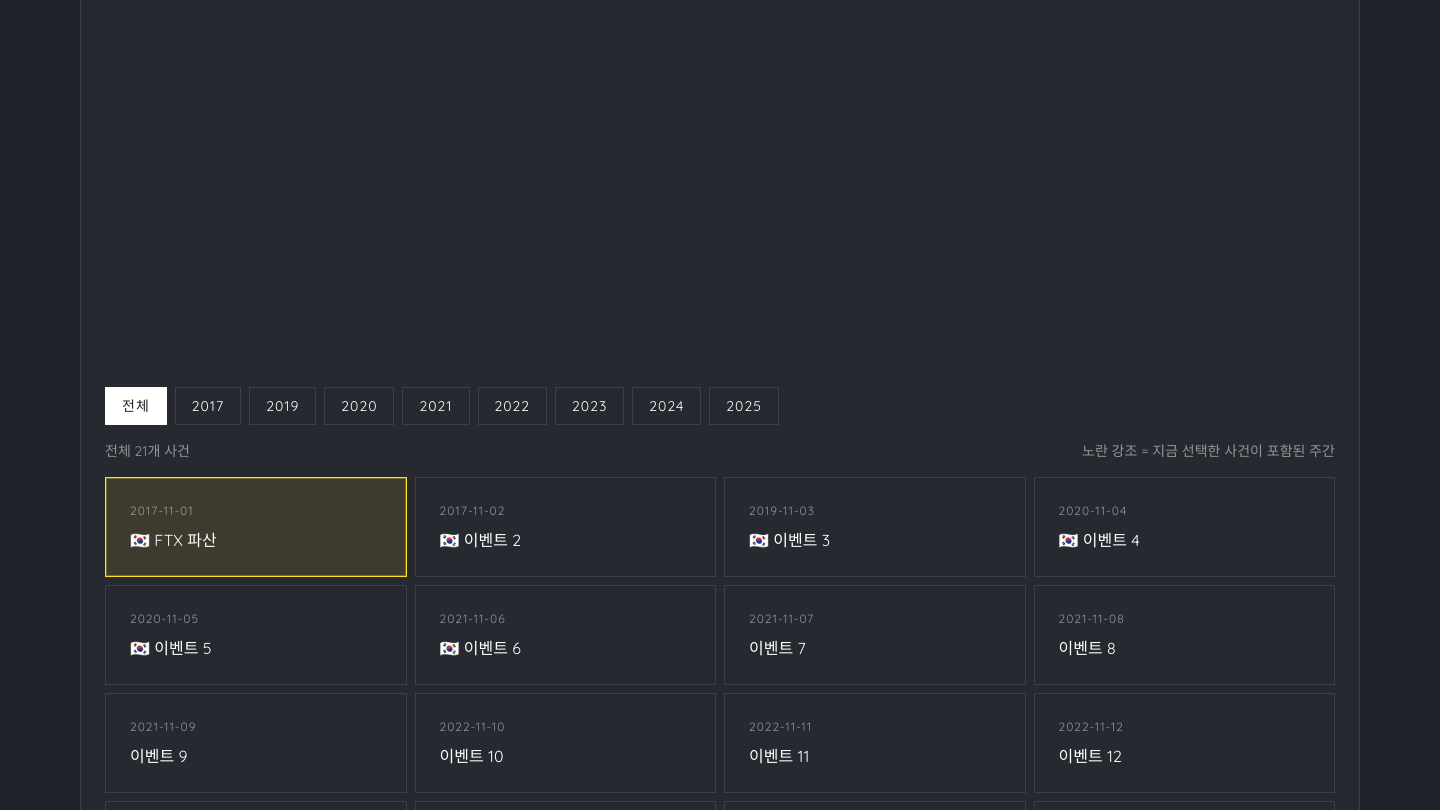
Test: App › filters events by year and restores the full list
The width and height of the screenshot is (1440, 810).
(page scrolled)
Click the button "2024": (667, 406) [632,387,701,425]
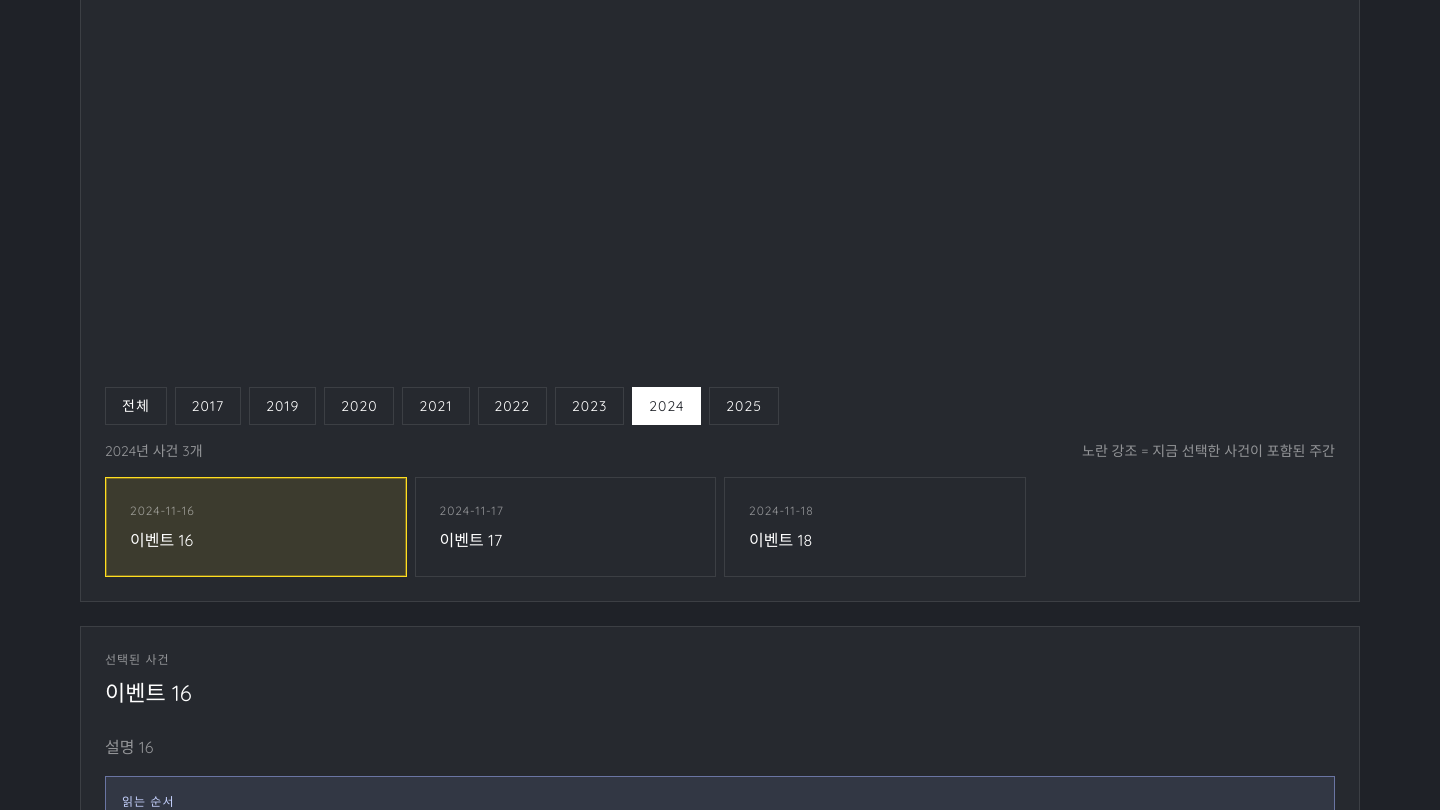
Result: the text "2024년 사건 3개" is shown at [105,441,202,461]
Result: the number of links named "보기" is 3 at [105,477,406,577]; [414,477,716,577]; [724,477,1026,577]
Click the button "전체": (136, 406) [105,387,167,425]
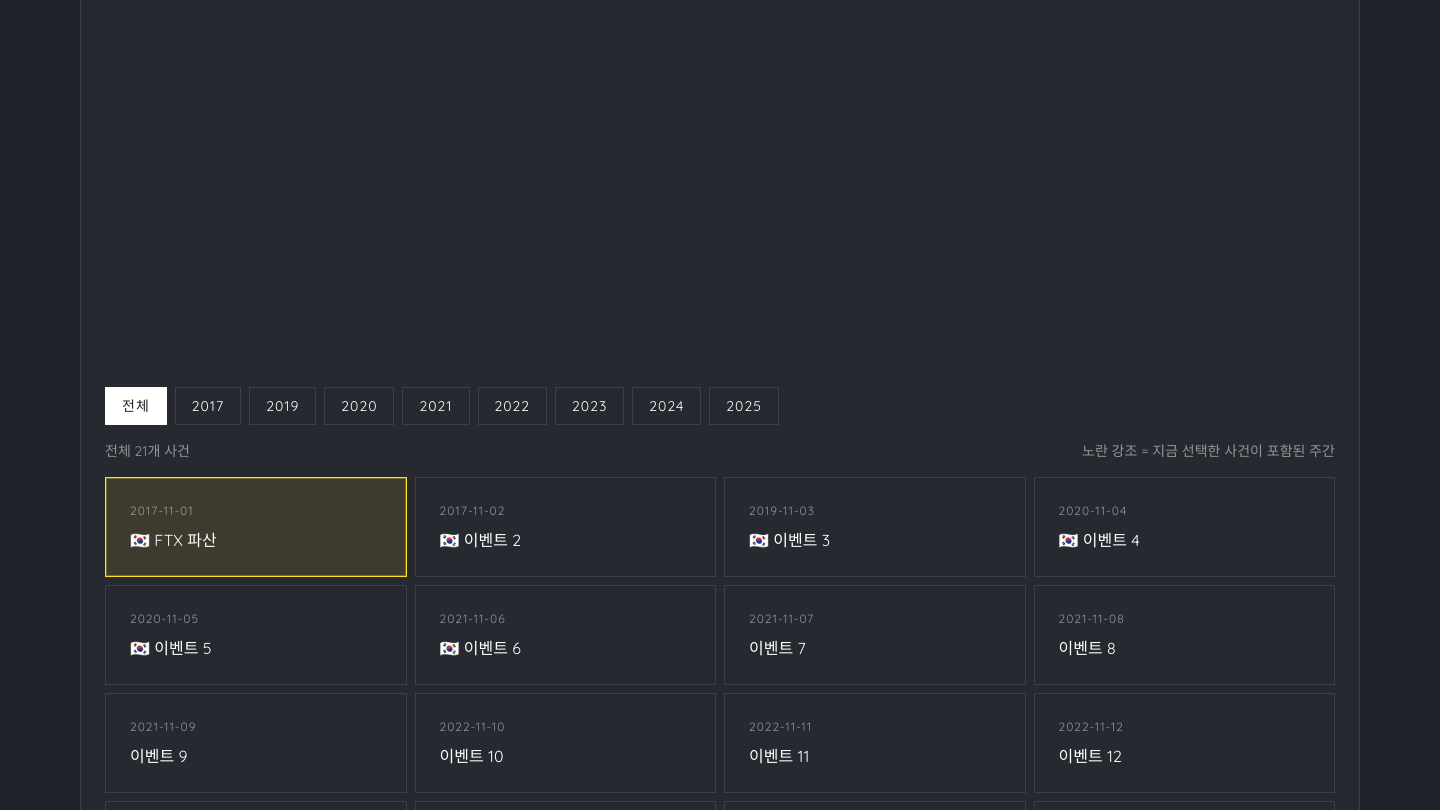
Result: the text "전체 21개 사건" is shown at [105,441,190,461]
Result: the number of links named "보기" is 21
